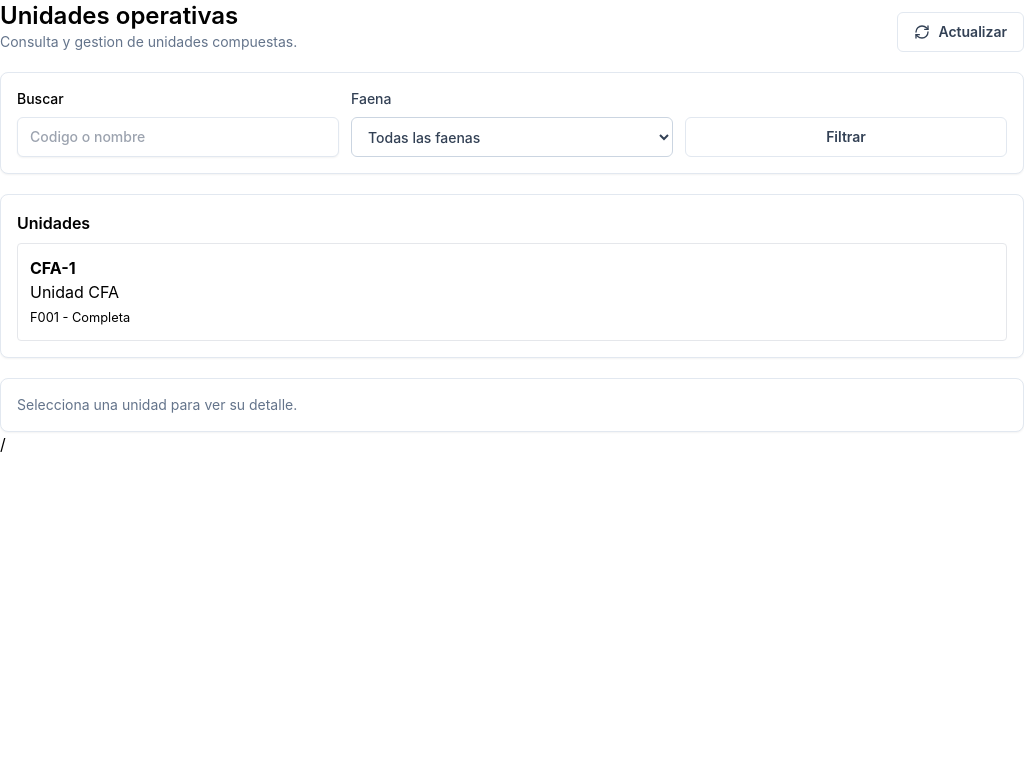
Scenario: OperationalUnitsPage shared actions › opens the shared editor for the selected unit and delegates a successful update
The image size is (1024, 768).
Click the button "CFA-1 Unidad CFA F001 - Completa" at coordinates (53, 268), box [17,243,1007,341]
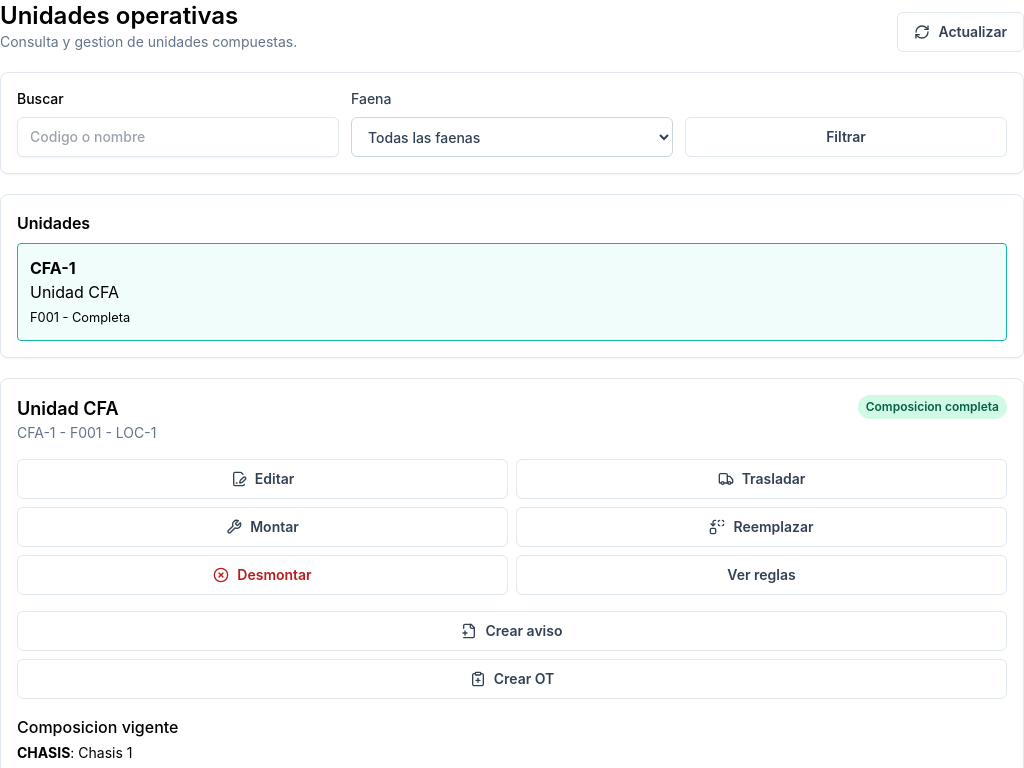
expect the button "Editar" is shown: met
Click the button "Editar" at coordinates (262, 479), box [17,459,508,499]
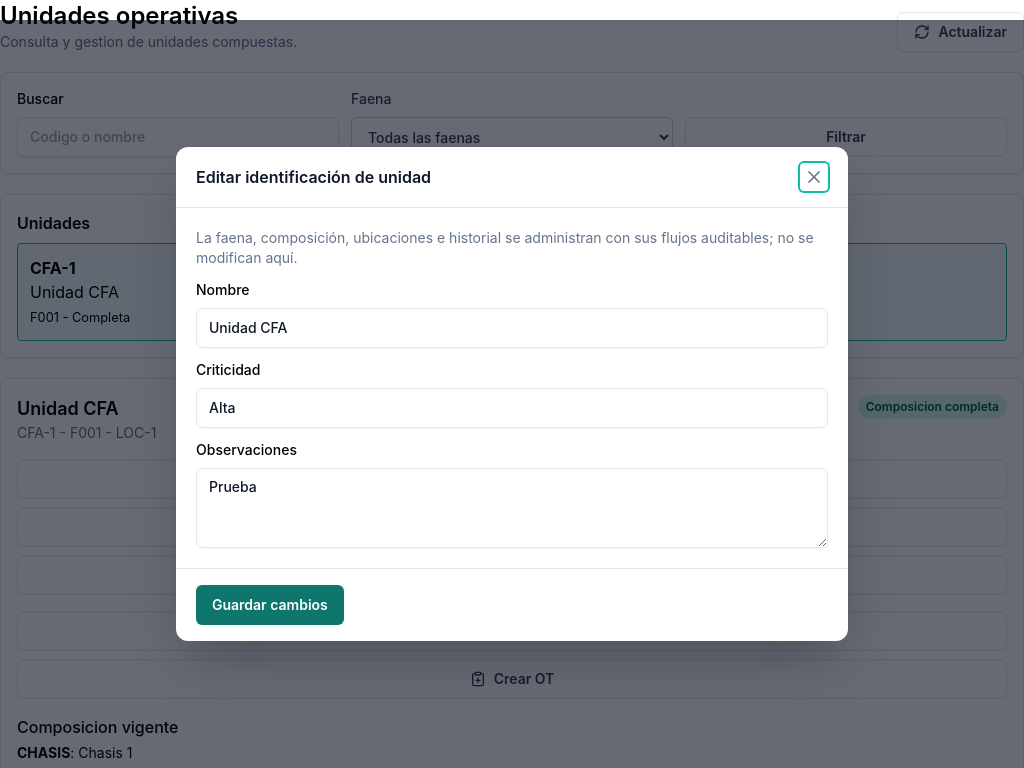
expect the dialog "Editar identific" is shown: met, box [176,147,848,641]
Replace the text in the field labelled "Nombre" with "Unidad editada" at coordinates (512, 328), box [196,308,828,348]
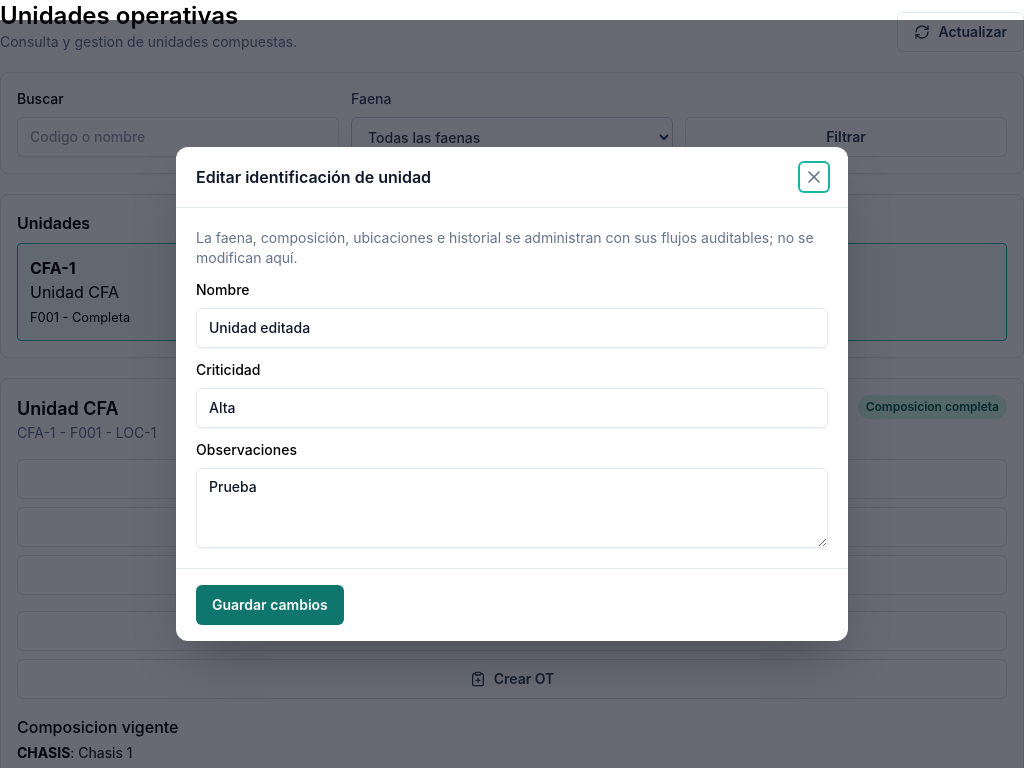
Click the button "Guardar cambios" at coordinates (270, 605), box [196,585,344,625]
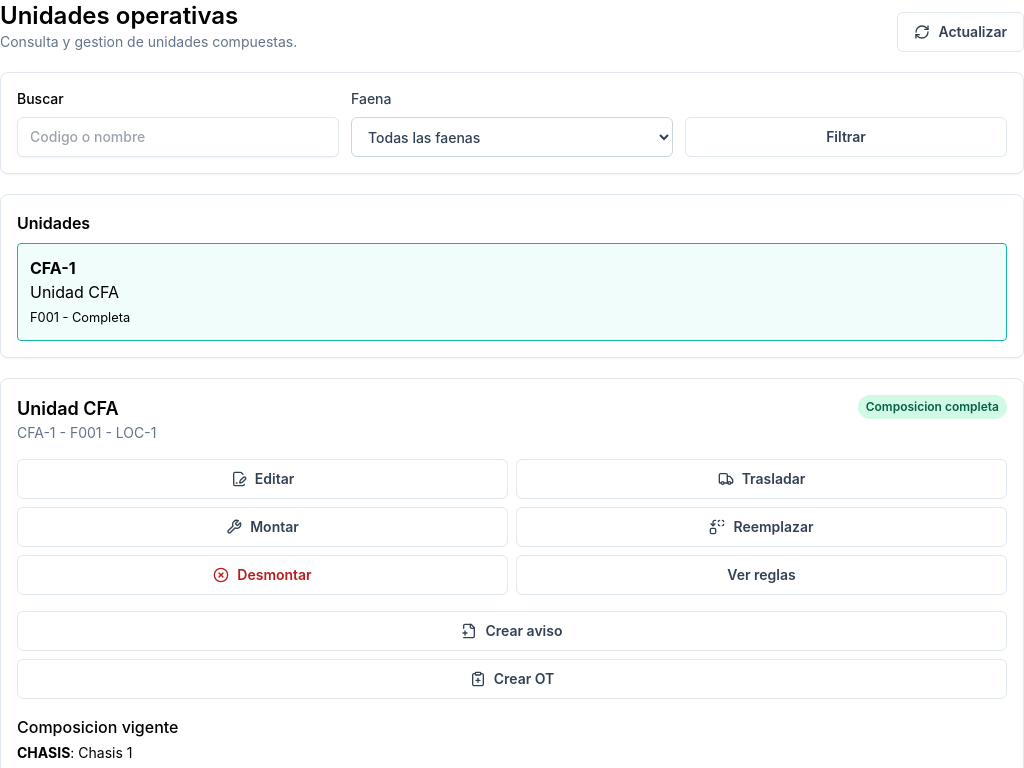
expect the dialog is gone: met
